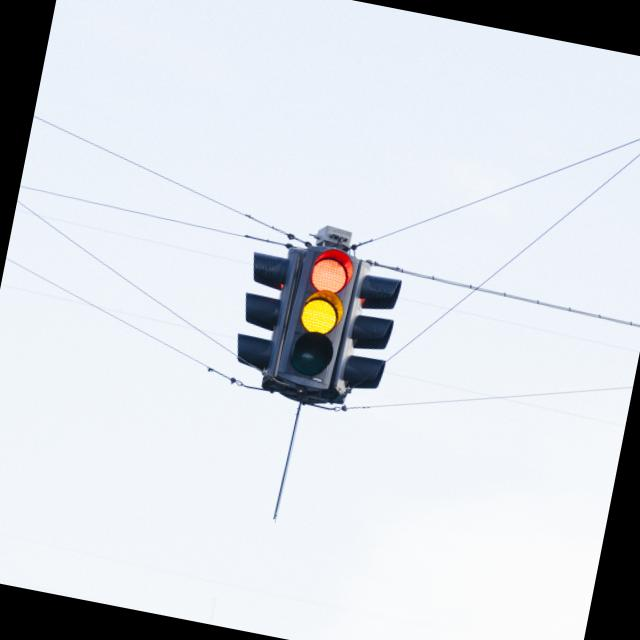red-lights: (298, 245, 359, 298)
yellow-lights: (290, 291, 348, 340)
